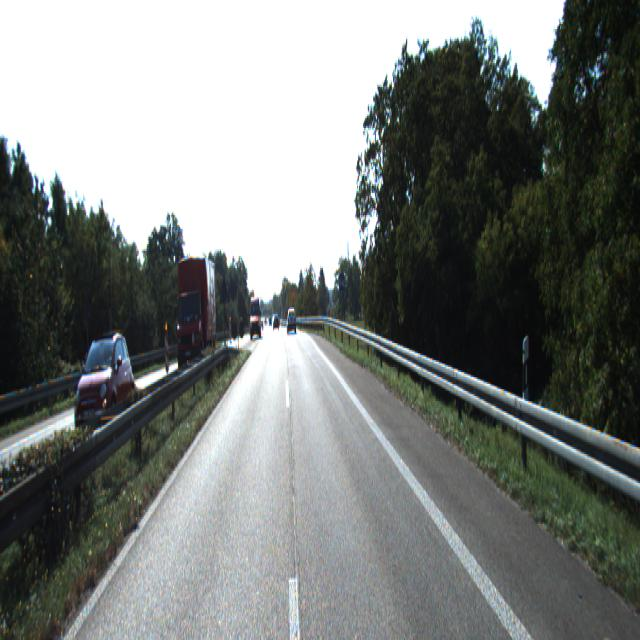Car: (78, 326, 138, 442), (173, 253, 219, 377), (249, 294, 262, 340), (287, 309, 297, 333)
